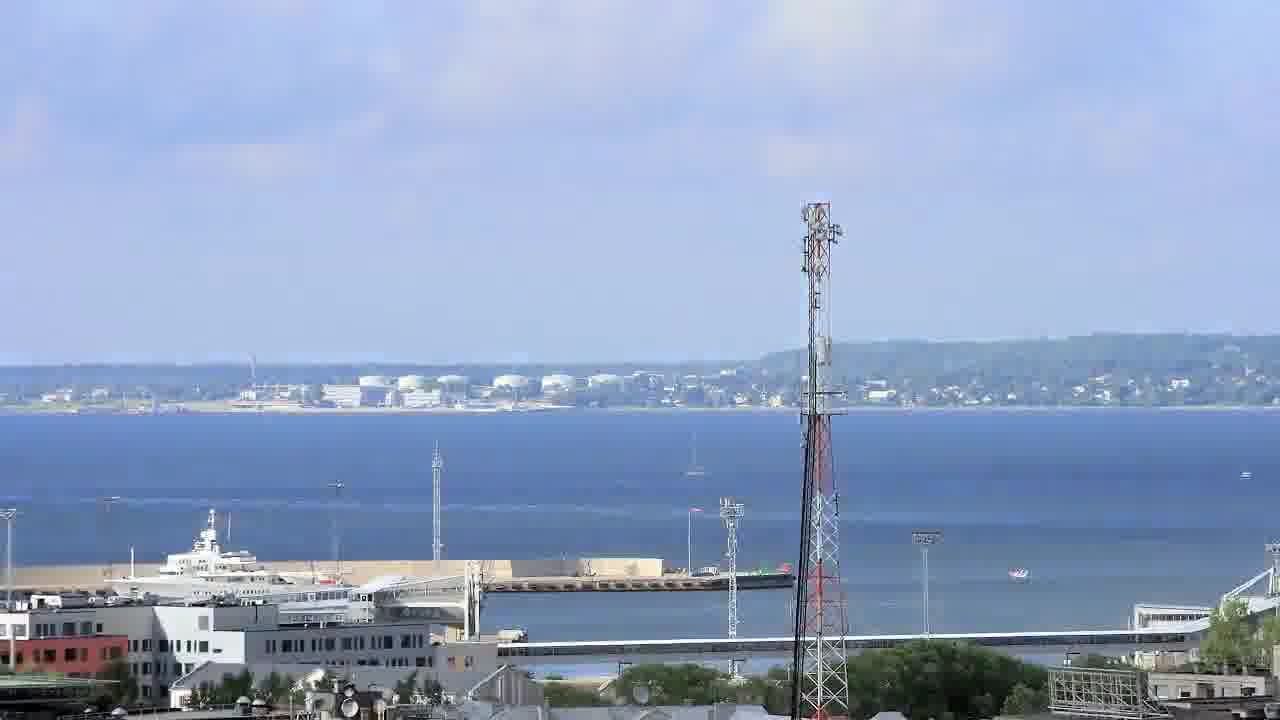type-2: (671, 425, 719, 490)
type-3: (96, 508, 381, 605)
type-4: (1211, 447, 1270, 498), (995, 551, 1053, 599)
